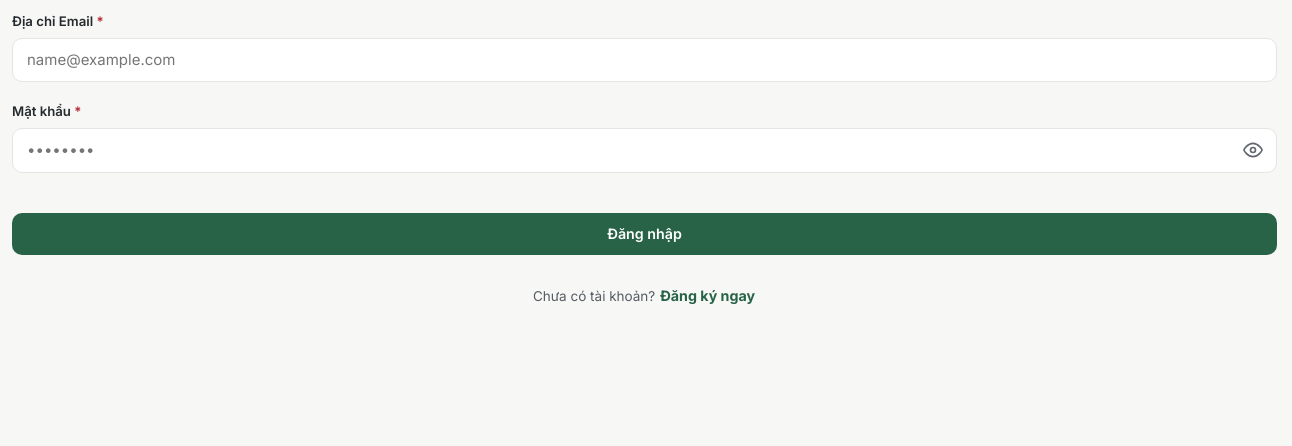
Test case: login and reset OTP › shows structured restriction support after the server verifies credentials
In the field labelled "Địa chỉ Email *": (644, 60) left=12, top=38, right=1277, bottom=82, type "fixture@example.invalid"
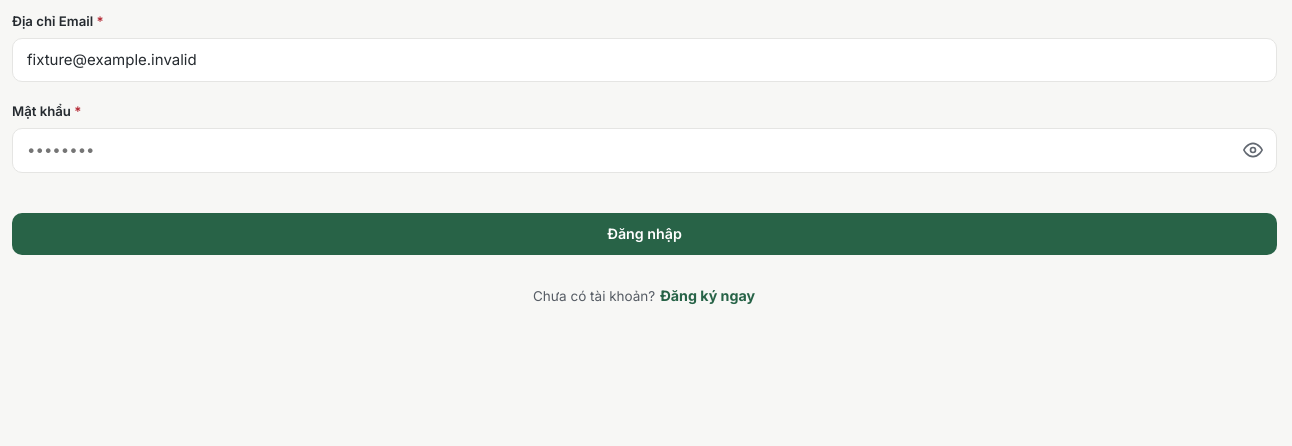
In the password field labelled "Mật khẩu *": (644, 150) left=12, top=128, right=1277, bottom=173, type "Password123@"
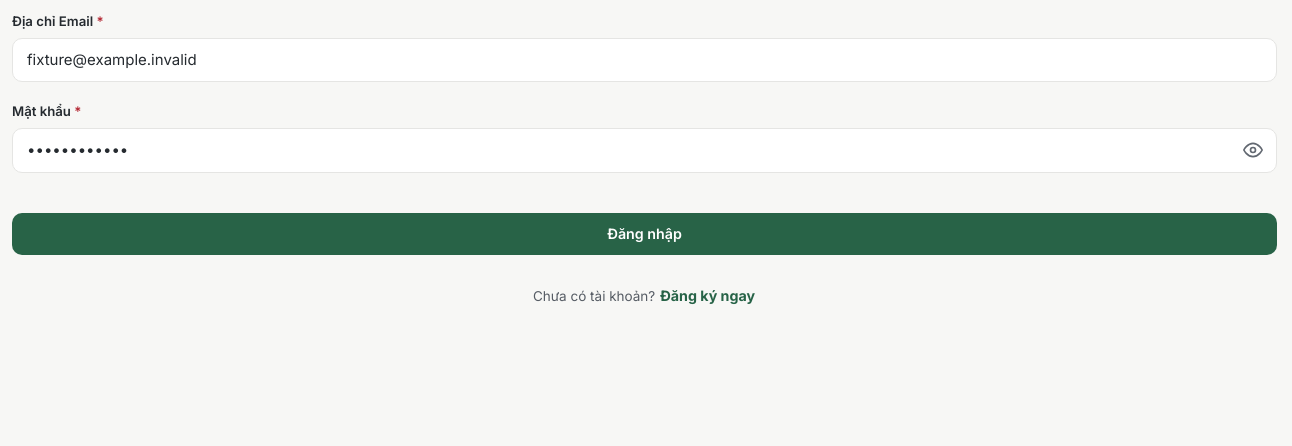
Click the button "Đăng nhập": (644, 234) left=12, top=213, right=1277, bottom=255
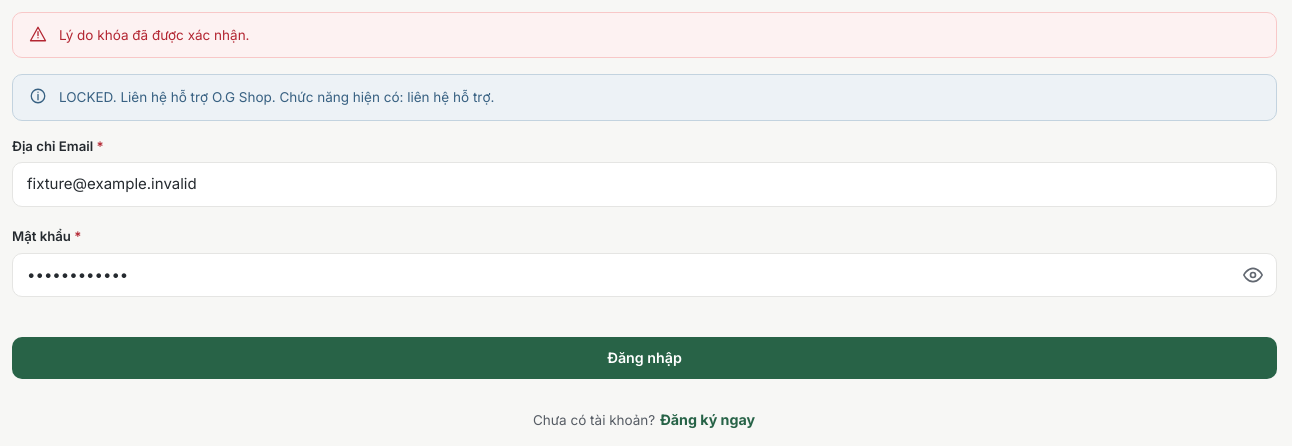
Expected: the text "Lý do khóa đã được xác nhận." is shown, left=59, top=27, right=250, bottom=43
